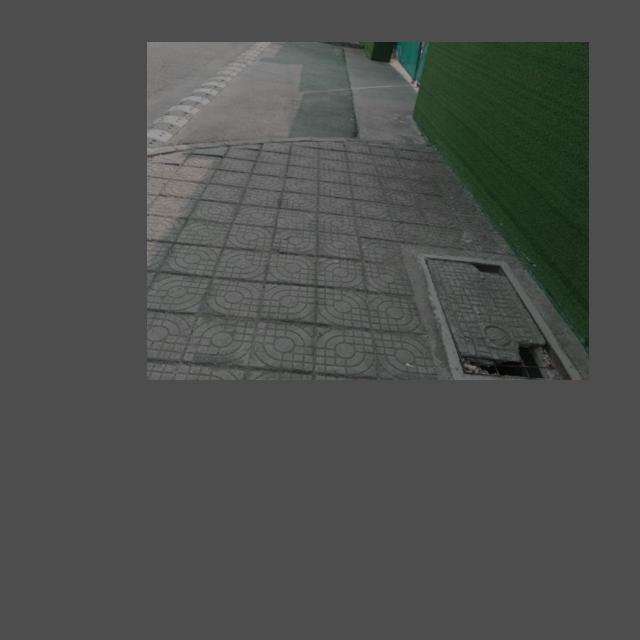broke: (418, 253, 584, 380)
